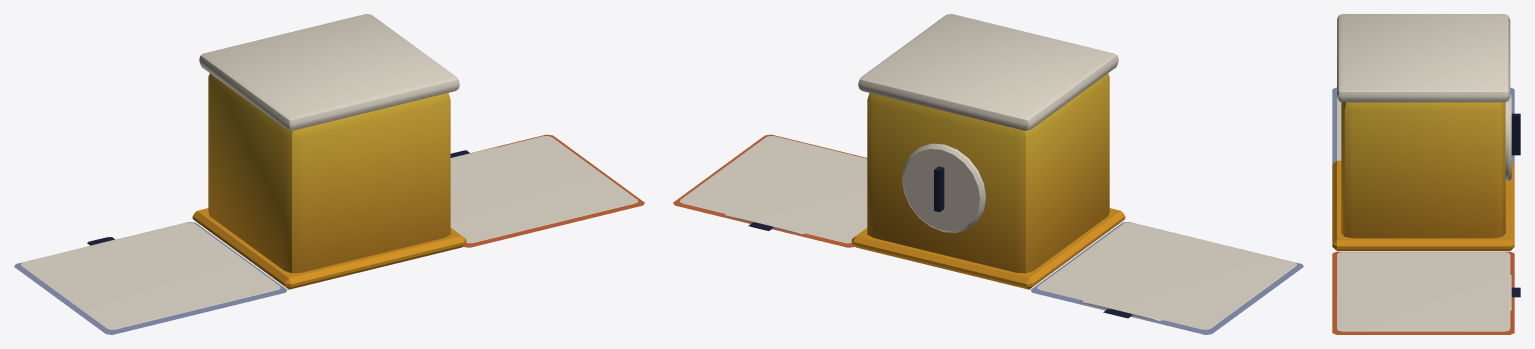
Rendered from results_podium.glb.
The picture shows the model from 3 angles, left to right: view 1: azimuth 30°, elevation 25°; view 2: azimuth 150°, elevation 25°; view 3: azimuth 270°, elevation 25°; orthographic projection. The views are drawn at different scales.
Visible parts, largest first — view 1: Podium1, Podium2, Podium3; view 2: Podium1, Podium2, Podium3; view 3: Podium1, Podium3, Podium2.
Part boxes in pixels (x1,y1,x2,y2): Podium1: [192, 14, 466, 289]; Podium2: [14, 222, 287, 334]; Podium3: [450, 134, 644, 247]; Podium1: [851, 14, 1125, 289]; Podium2: [1030, 222, 1303, 334]; Podium3: [673, 134, 867, 247]; Podium1: [1332, 14, 1520, 250]; Podium3: [1332, 251, 1520, 334]; Podium2: [1332, 87, 1514, 164].
Bounding box in the file's own units: 3.92 × 1.18 × 1.26.
